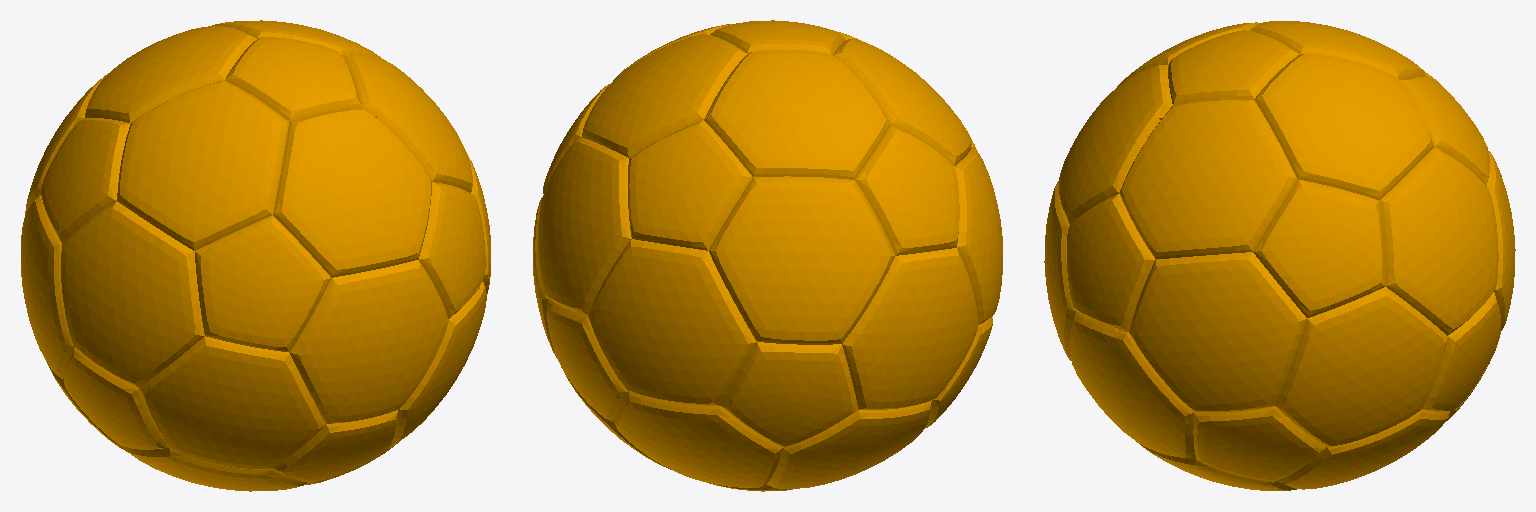
URDF robot description (ball):
<?xml version="1.0"?>
<robot name="ball">
    <link name="body">
        <visual>
            <origin rpy="0 0 0" xyz="0 0 0"/>
            <geometry>
                <mesh filename="ball.obj"/>
            </geometry>
        </visual>
        <collision>
            <geometry>
                <sphere radius="0.05"/>
            </geometry>
        </collision>

        <inertial>
          <mass value="0.5"/>
          <inertia ixx="0.0" ixy="0.0" ixz="0.0" iyy="0.0" iyz="0.0" izz="0.0"/>
        </inertial>
    </link>
</robot>

--- Render facts (derived) ---
Views: 3 orthographic renders of the robot side by side, from view 1: azimuth 30°, elevation 25°; view 2: azimuth 150°, elevation 25°; view 3: azimuth 270°, elevation 25°.
Robot: ball — 1 links, 0 joints (none); root link body; default pose: all joints at 0.
Links seen in each view (by area): view 1: body; view 2: body; view 3: body.
Link boxes in pixels (bbox=[...]): body: bbox=[21, 20, 490, 491]; body: bbox=[533, 20, 1002, 491]; body: bbox=[1044, 21, 1515, 490].
Size in the robot's own frame: 0.1 by 0.1 by 0.1 metres.
1 mesh visuals loaded from 1 distinct referenced files (1 OBJ).